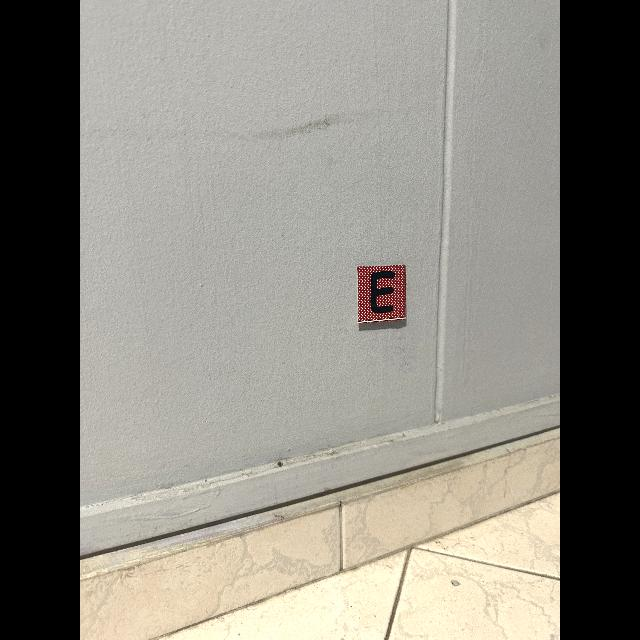E: (371, 271, 395, 313)
